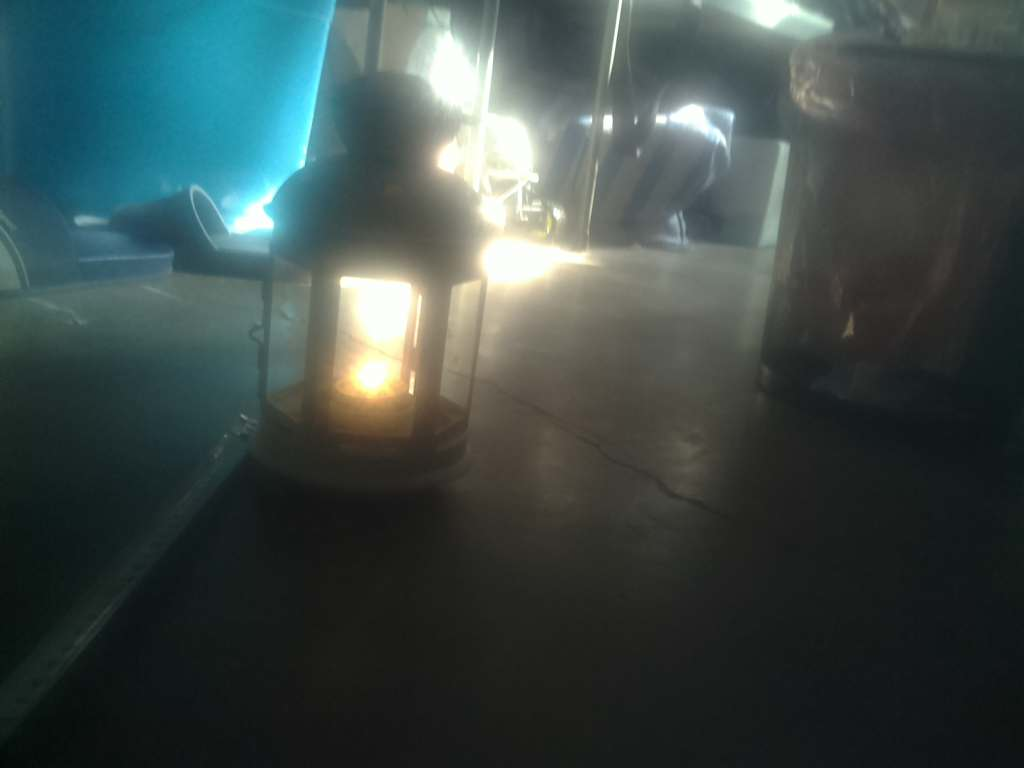fire: (327, 318, 435, 425)
